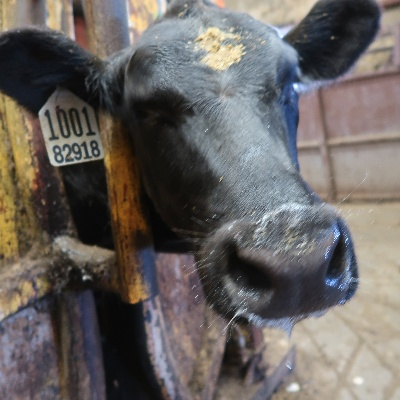fidget_spinner: (215, 217, 359, 316)
